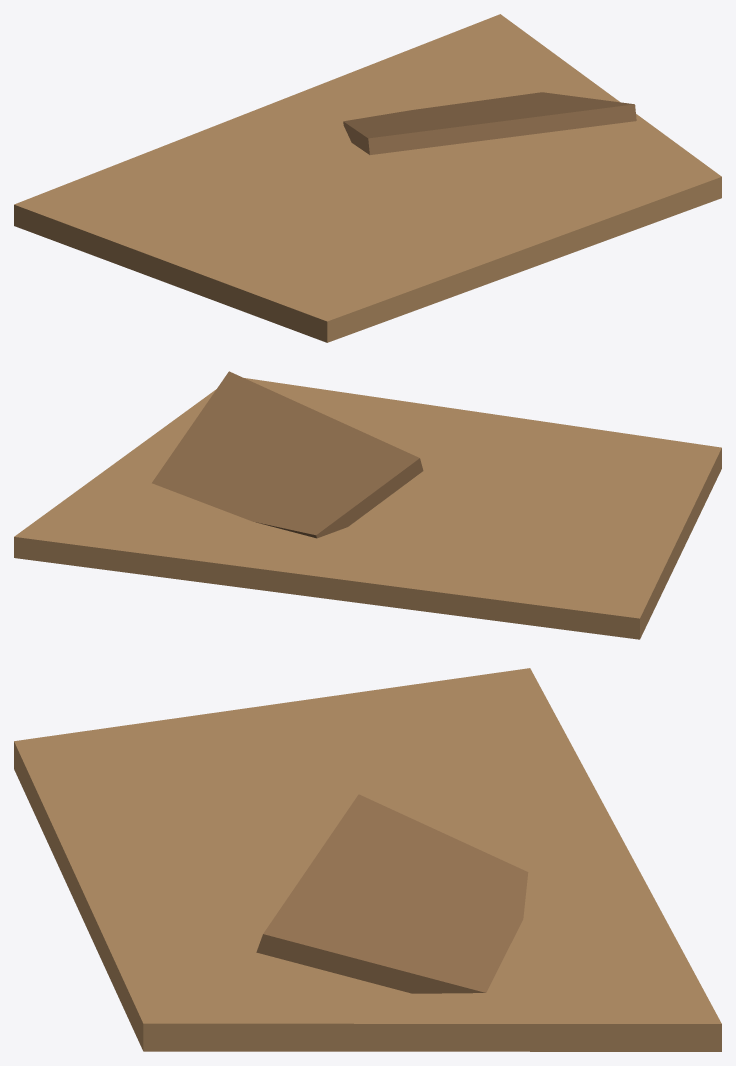
Rendered from hide.glb.
The picture shows the model from 3 angles, top to bottom: view 1: azimuth 30°, elevation 25°; view 2: azimuth 150°, elevation 25°; view 3: azimuth 270°, elevation 25°; orthographic projection. The views are drawn at different scales.
Parts seen in each view (by area): view 1: hide_sheet, hide_fold; view 2: hide_sheet, hide_fold; view 3: hide_sheet, hide_fold.
Part boxes in pixels (bbox=[...]): hide_sheet: bbox=[14, 14, 721, 342]; hide_fold: bbox=[343, 92, 636, 154]; hide_sheet: bbox=[14, 378, 721, 639]; hide_fold: bbox=[152, 371, 423, 538]; hide_sheet: bbox=[14, 668, 721, 1051]; hide_fold: bbox=[256, 794, 528, 993].
Size of the model in its own units: 0.5497 by 0.0659 by 0.462.
